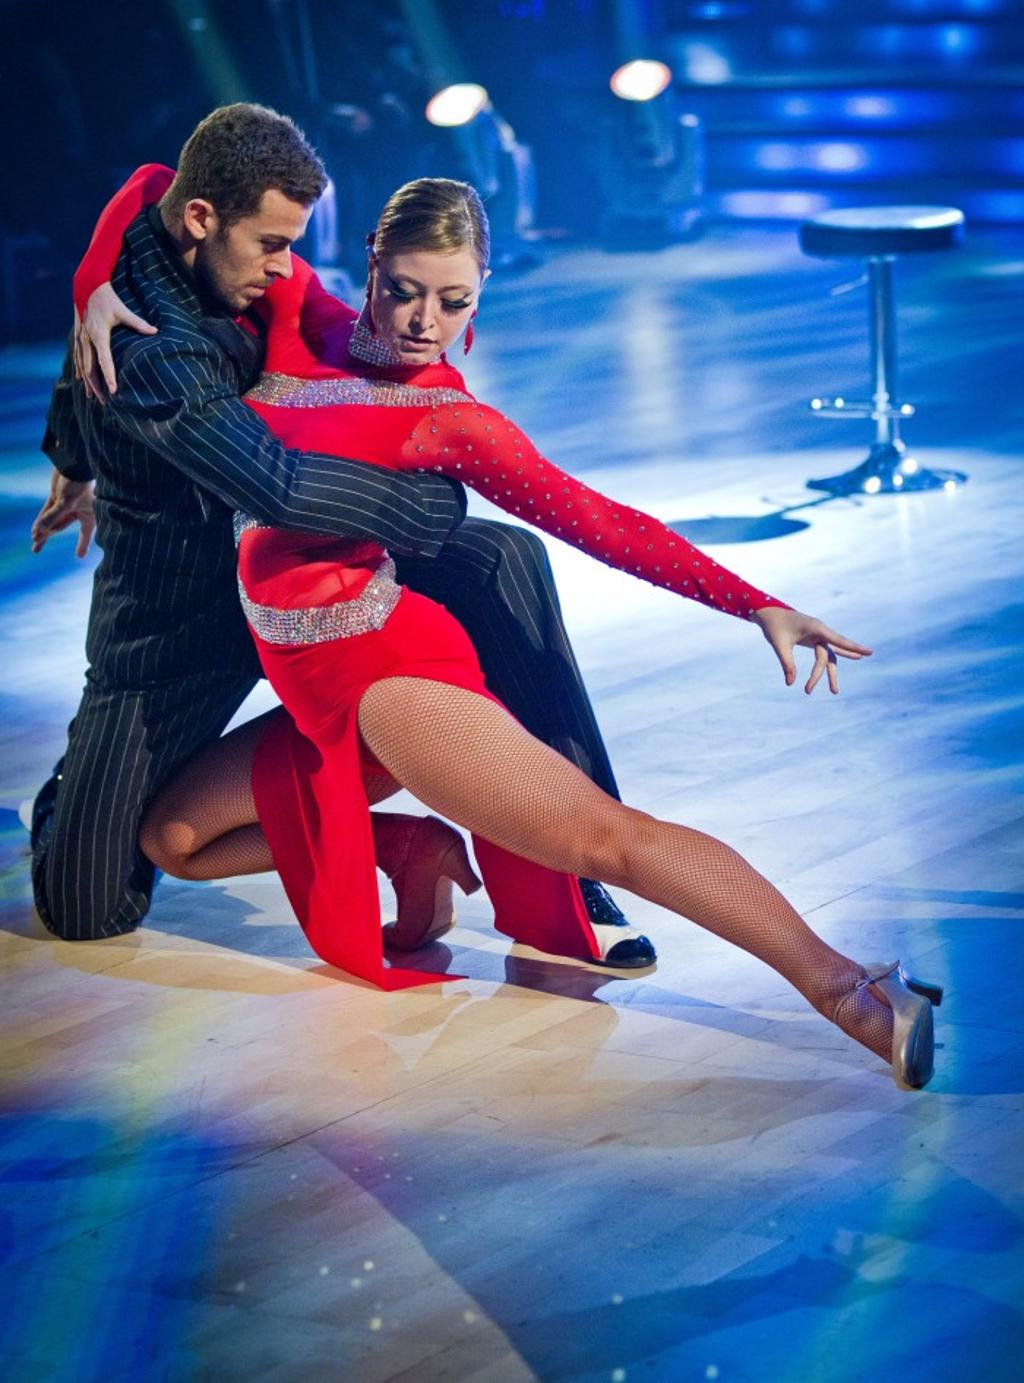face: (219, 157, 305, 311), (367, 238, 470, 362)
